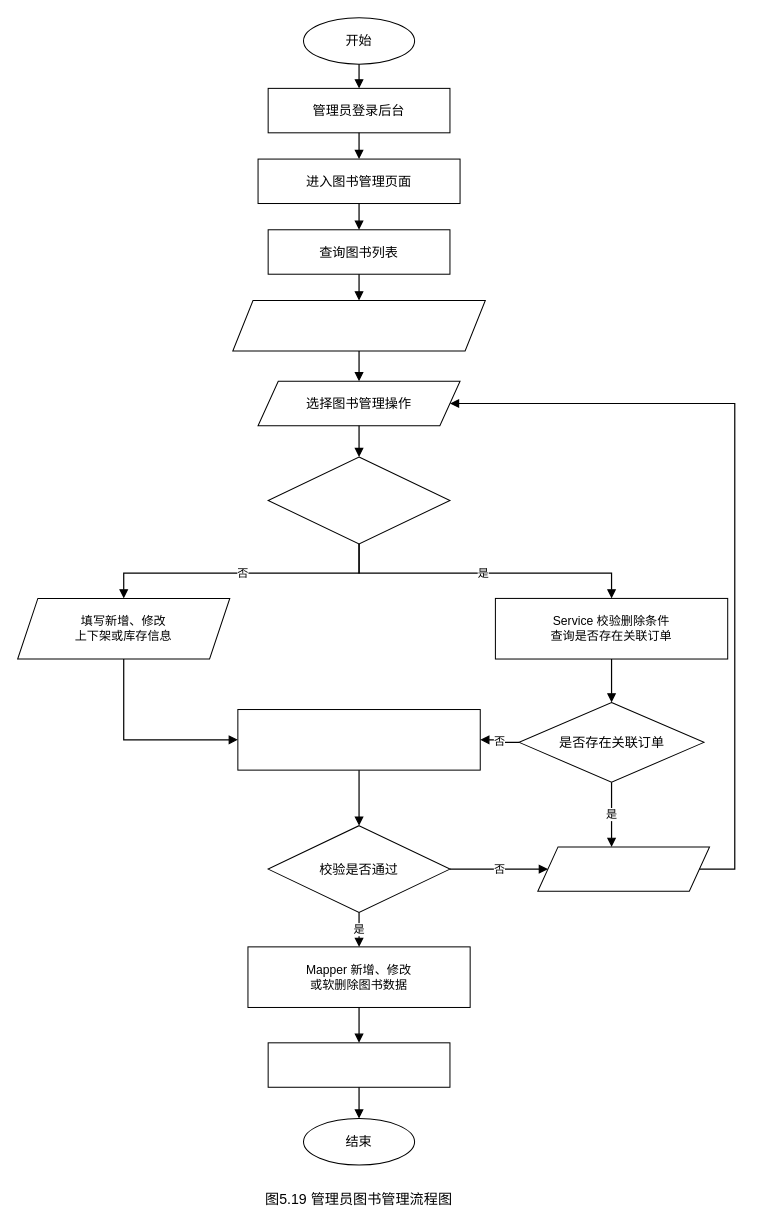
This 762x1232 diagram has some shape labels left out. The centre of each missing label's shape, as x and y in pixels:
Service 校验图书参数 分类、ISBN、价格和库存: the point at 358,739
刷新图书列表: the point at 358,1064
是否删除图书: the point at 358,500
显示封面、价格、库存和上下架状态: the point at 358,325
返回错误提示: the point at 623,868
